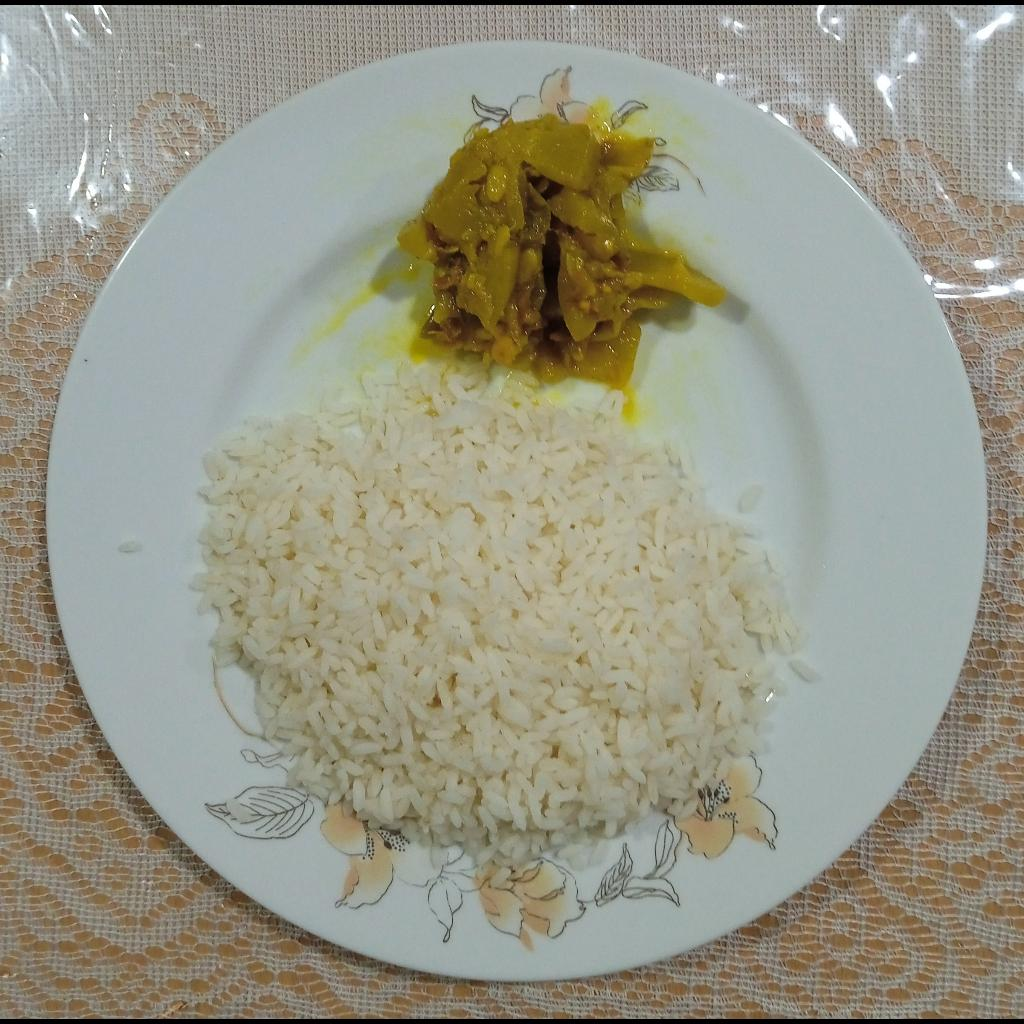lau: (403, 117, 723, 393)
rice: (196, 361, 822, 879)
